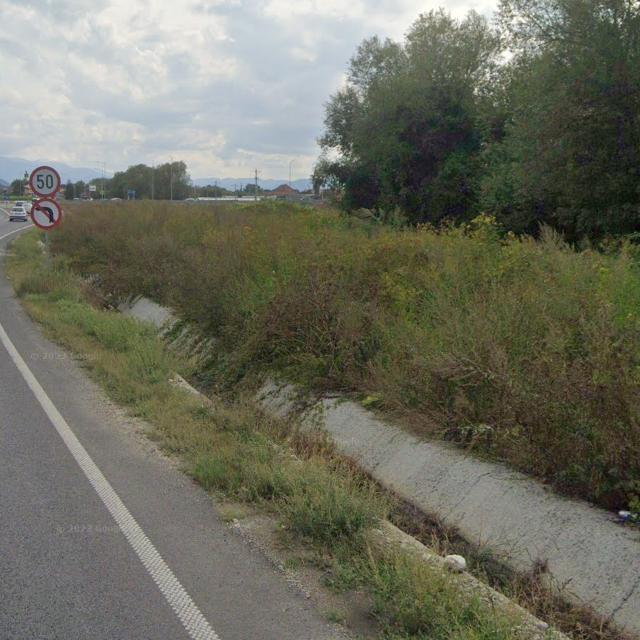forb_speed_over_50: (26, 166, 64, 199)
